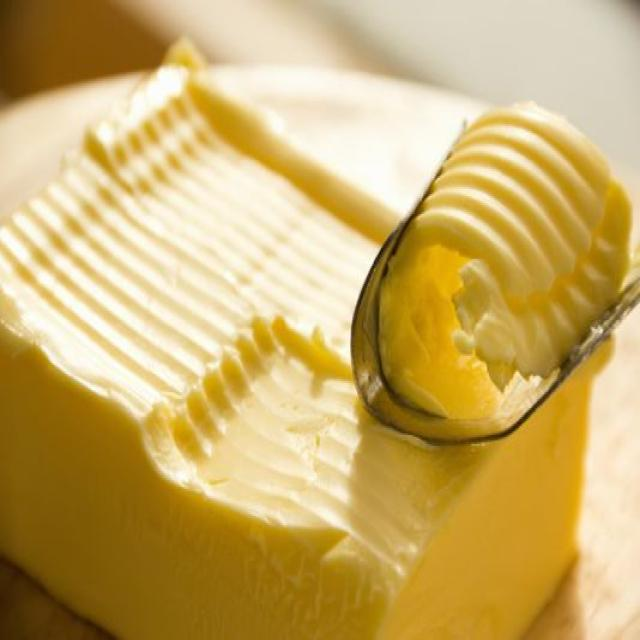Butter: (1, 59, 612, 640)
